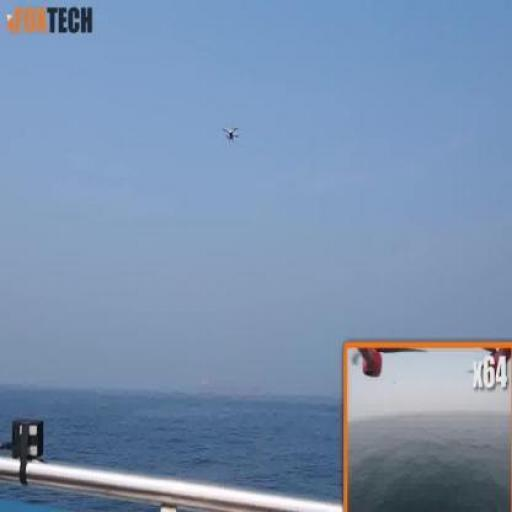drone: (222, 127, 240, 139)
